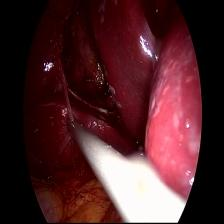Irrigator: (62, 108, 88, 145)
